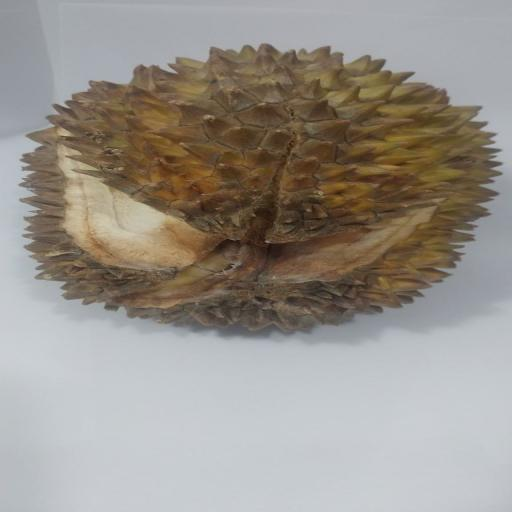rot: (2, 29, 512, 341)
